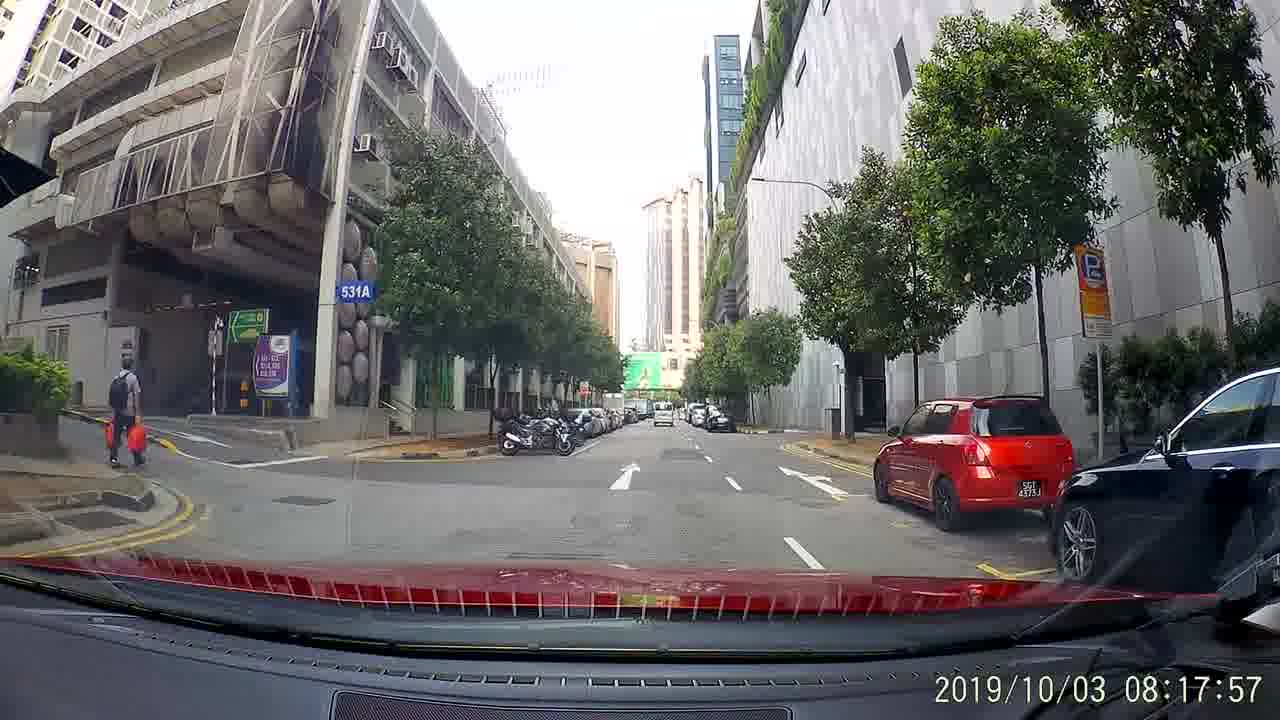car: (1050, 358, 1274, 579), (865, 393, 1076, 531), (703, 406, 736, 432)
